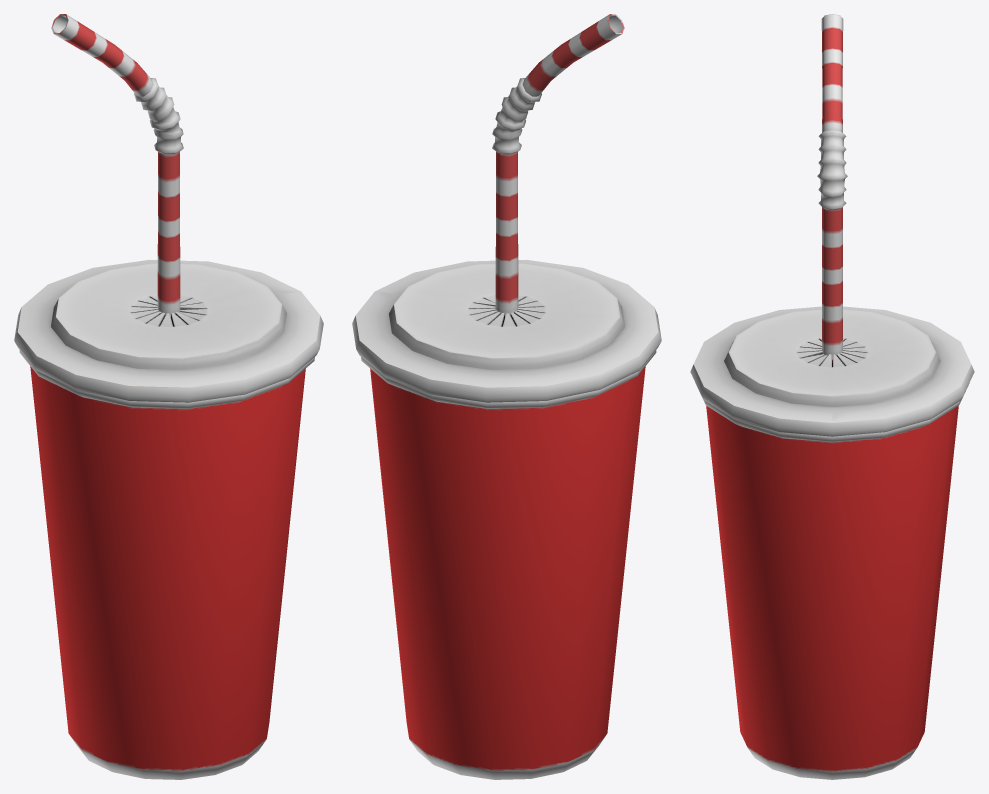
Rendered from paper-Cup-v2.fbx.
The picture shows the model from 3 angles, left to right: view 1: azimuth 30°, elevation 25°; view 2: azimuth 150°, elevation 25°; view 3: azimuth 270°, elevation 25°; orthographic projection. The views are drawn at different scales.
Parts seen in each view (by area): view 1: Paper-Cup-v2, Paper-Cup-cap, pipette; view 2: Paper-Cup-v2, Paper-Cup-cap, pipette; view 3: Paper-Cup-v2, Paper-Cup-cap, pipette.
Boxes of the visible parts, box(x1,y1,x2,y2) form: Paper-Cup-v2: box(19, 350, 314, 779); Paper-Cup-cap: box(14, 259, 323, 402); pipette: box(51, 14, 183, 316); Paper-Cup-v2: box(361, 350, 656, 779); Paper-Cup-cap: box(352, 259, 661, 402); pipette: box(492, 14, 624, 316); Paper-Cup-v2: box(695, 383, 969, 779); Paper-Cup-cap: box(690, 306, 974, 436); pipette: box(817, 14, 847, 362).
Size of the model in its own units: 0.6957 by 1.85 by 0.6957.
